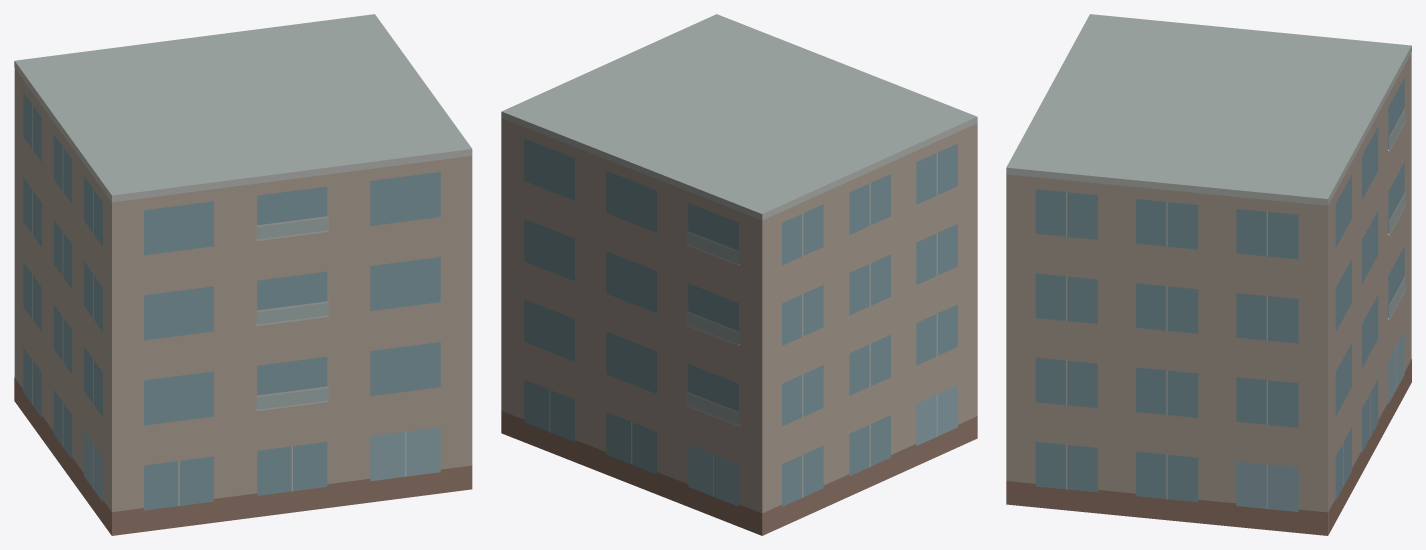
Rendered from residential-a62ce5a0-5f90-43a1-a665-7759b29897b4.glb.
3 views of the same model, side by side, from view 1: azimuth 30°, elevation 25°; view 2: azimuth 150°, elevation 25°; view 3: azimuth 270°, elevation 25° (orthographic). The views are drawn at different scales.
Parts seen in each view (by area): view 1: residential-a62ce5a0-5f90-43a1-a665-7759b29897b4.tmp; view 2: residential-a62ce5a0-5f90-43a1-a665-7759b29897b4.tmp; view 3: residential-a62ce5a0-5f90-43a1-a665-7759b29897b4.tmp.
Part boxes in pixels (bbox=[...]): residential-a62ce5a0-5f90-43a1-a665-7759b29897b4.tmp: bbox=[14, 14, 472, 535]; residential-a62ce5a0-5f90-43a1-a665-7759b29897b4.tmp: bbox=[501, 14, 977, 535]; residential-a62ce5a0-5f90-43a1-a665-7759b29897b4.tmp: bbox=[1006, 14, 1411, 535].
Bounding box in the file's own units: 14.39 × 12.2 × 13.33.
